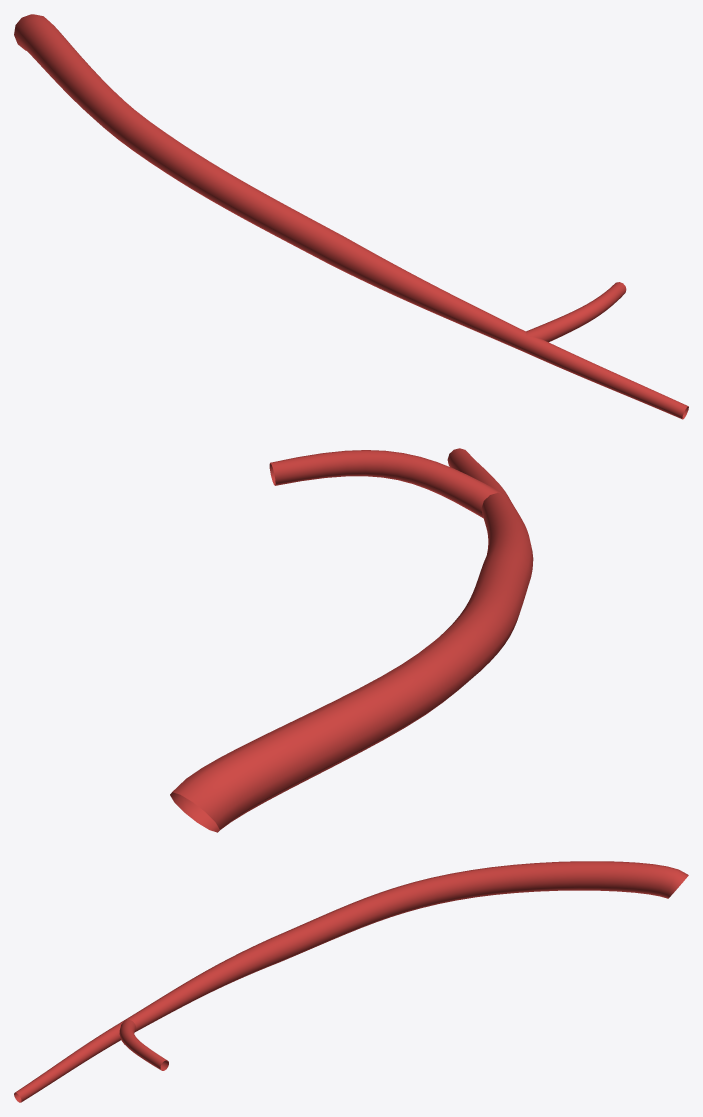
The picture shows the model from 3 angles, top to bottom: view 1: azimuth 30°, elevation 25°; view 2: azimuth 150°, elevation 25°; view 3: azimuth 270°, elevation 25°; orthographic projection. The views are drawn at different scales.
Parts seen in each view (by area): view 1: 右侧甲状腺下动脉; view 2: 右侧甲状腺下动脉; view 3: 右侧甲状腺下动脉.
Boxes of the visible parts, left/top/right/bottom form: 右侧甲状腺下动脉: left=14, top=14, right=688, bottom=419; 右侧甲状腺下动脉: left=170, top=448, right=533, bottom=832; 右侧甲状腺下动脉: left=14, top=861, right=688, bottom=1102.
Size of the model in its own units: 0.0216 by 0.0114 by 0.0503.
